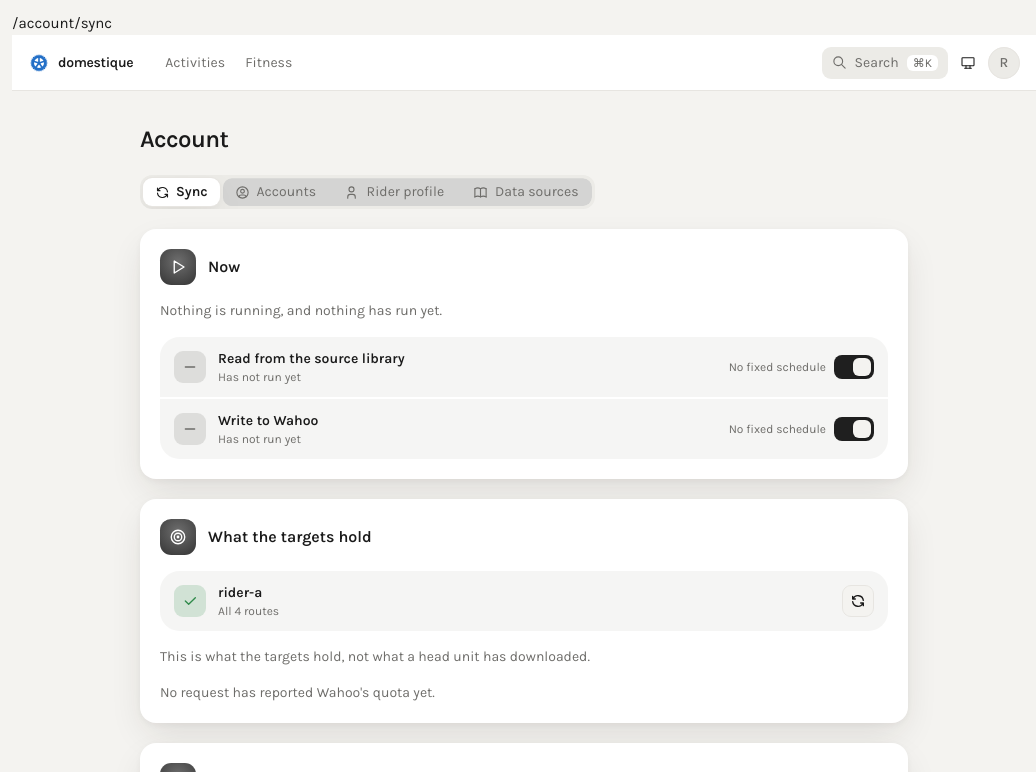
it: AccountPage › moves to a tab's own address when it is chosen
The width and height of the screenshot is (1036, 772).
Click the tab "Rider profile": click(395, 192) top-left (332, 178), bottom-right (458, 206)
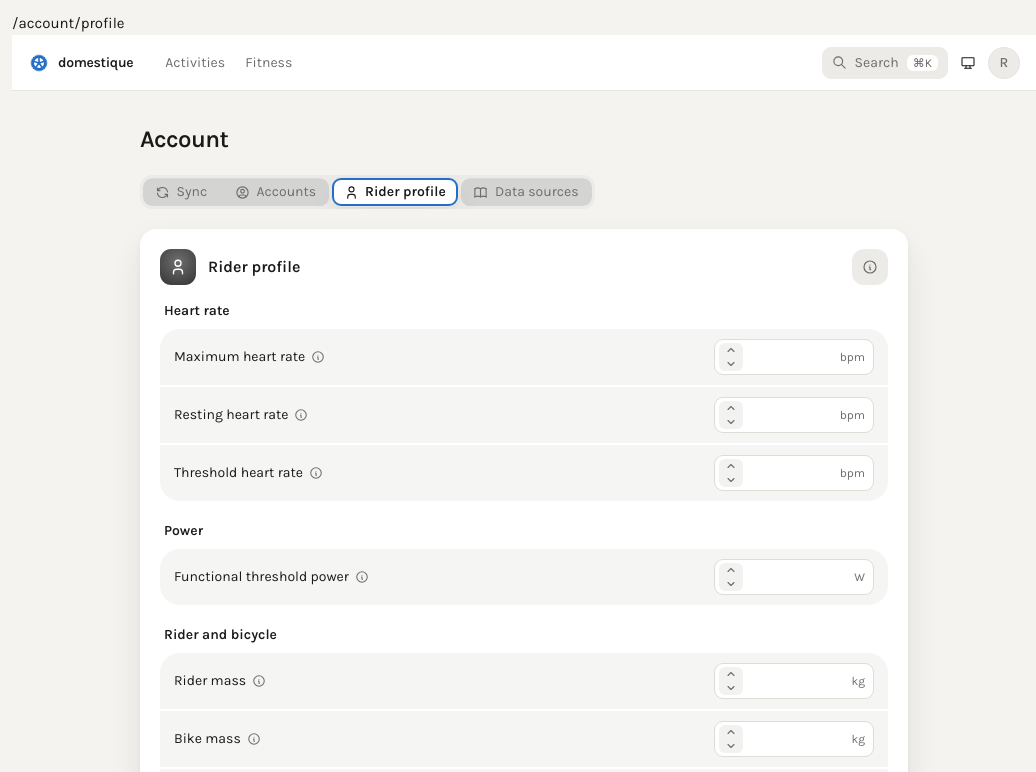
Expected: the text with test id "address" reads "/account/profile", top-left (12, 14), bottom-right (125, 32)
